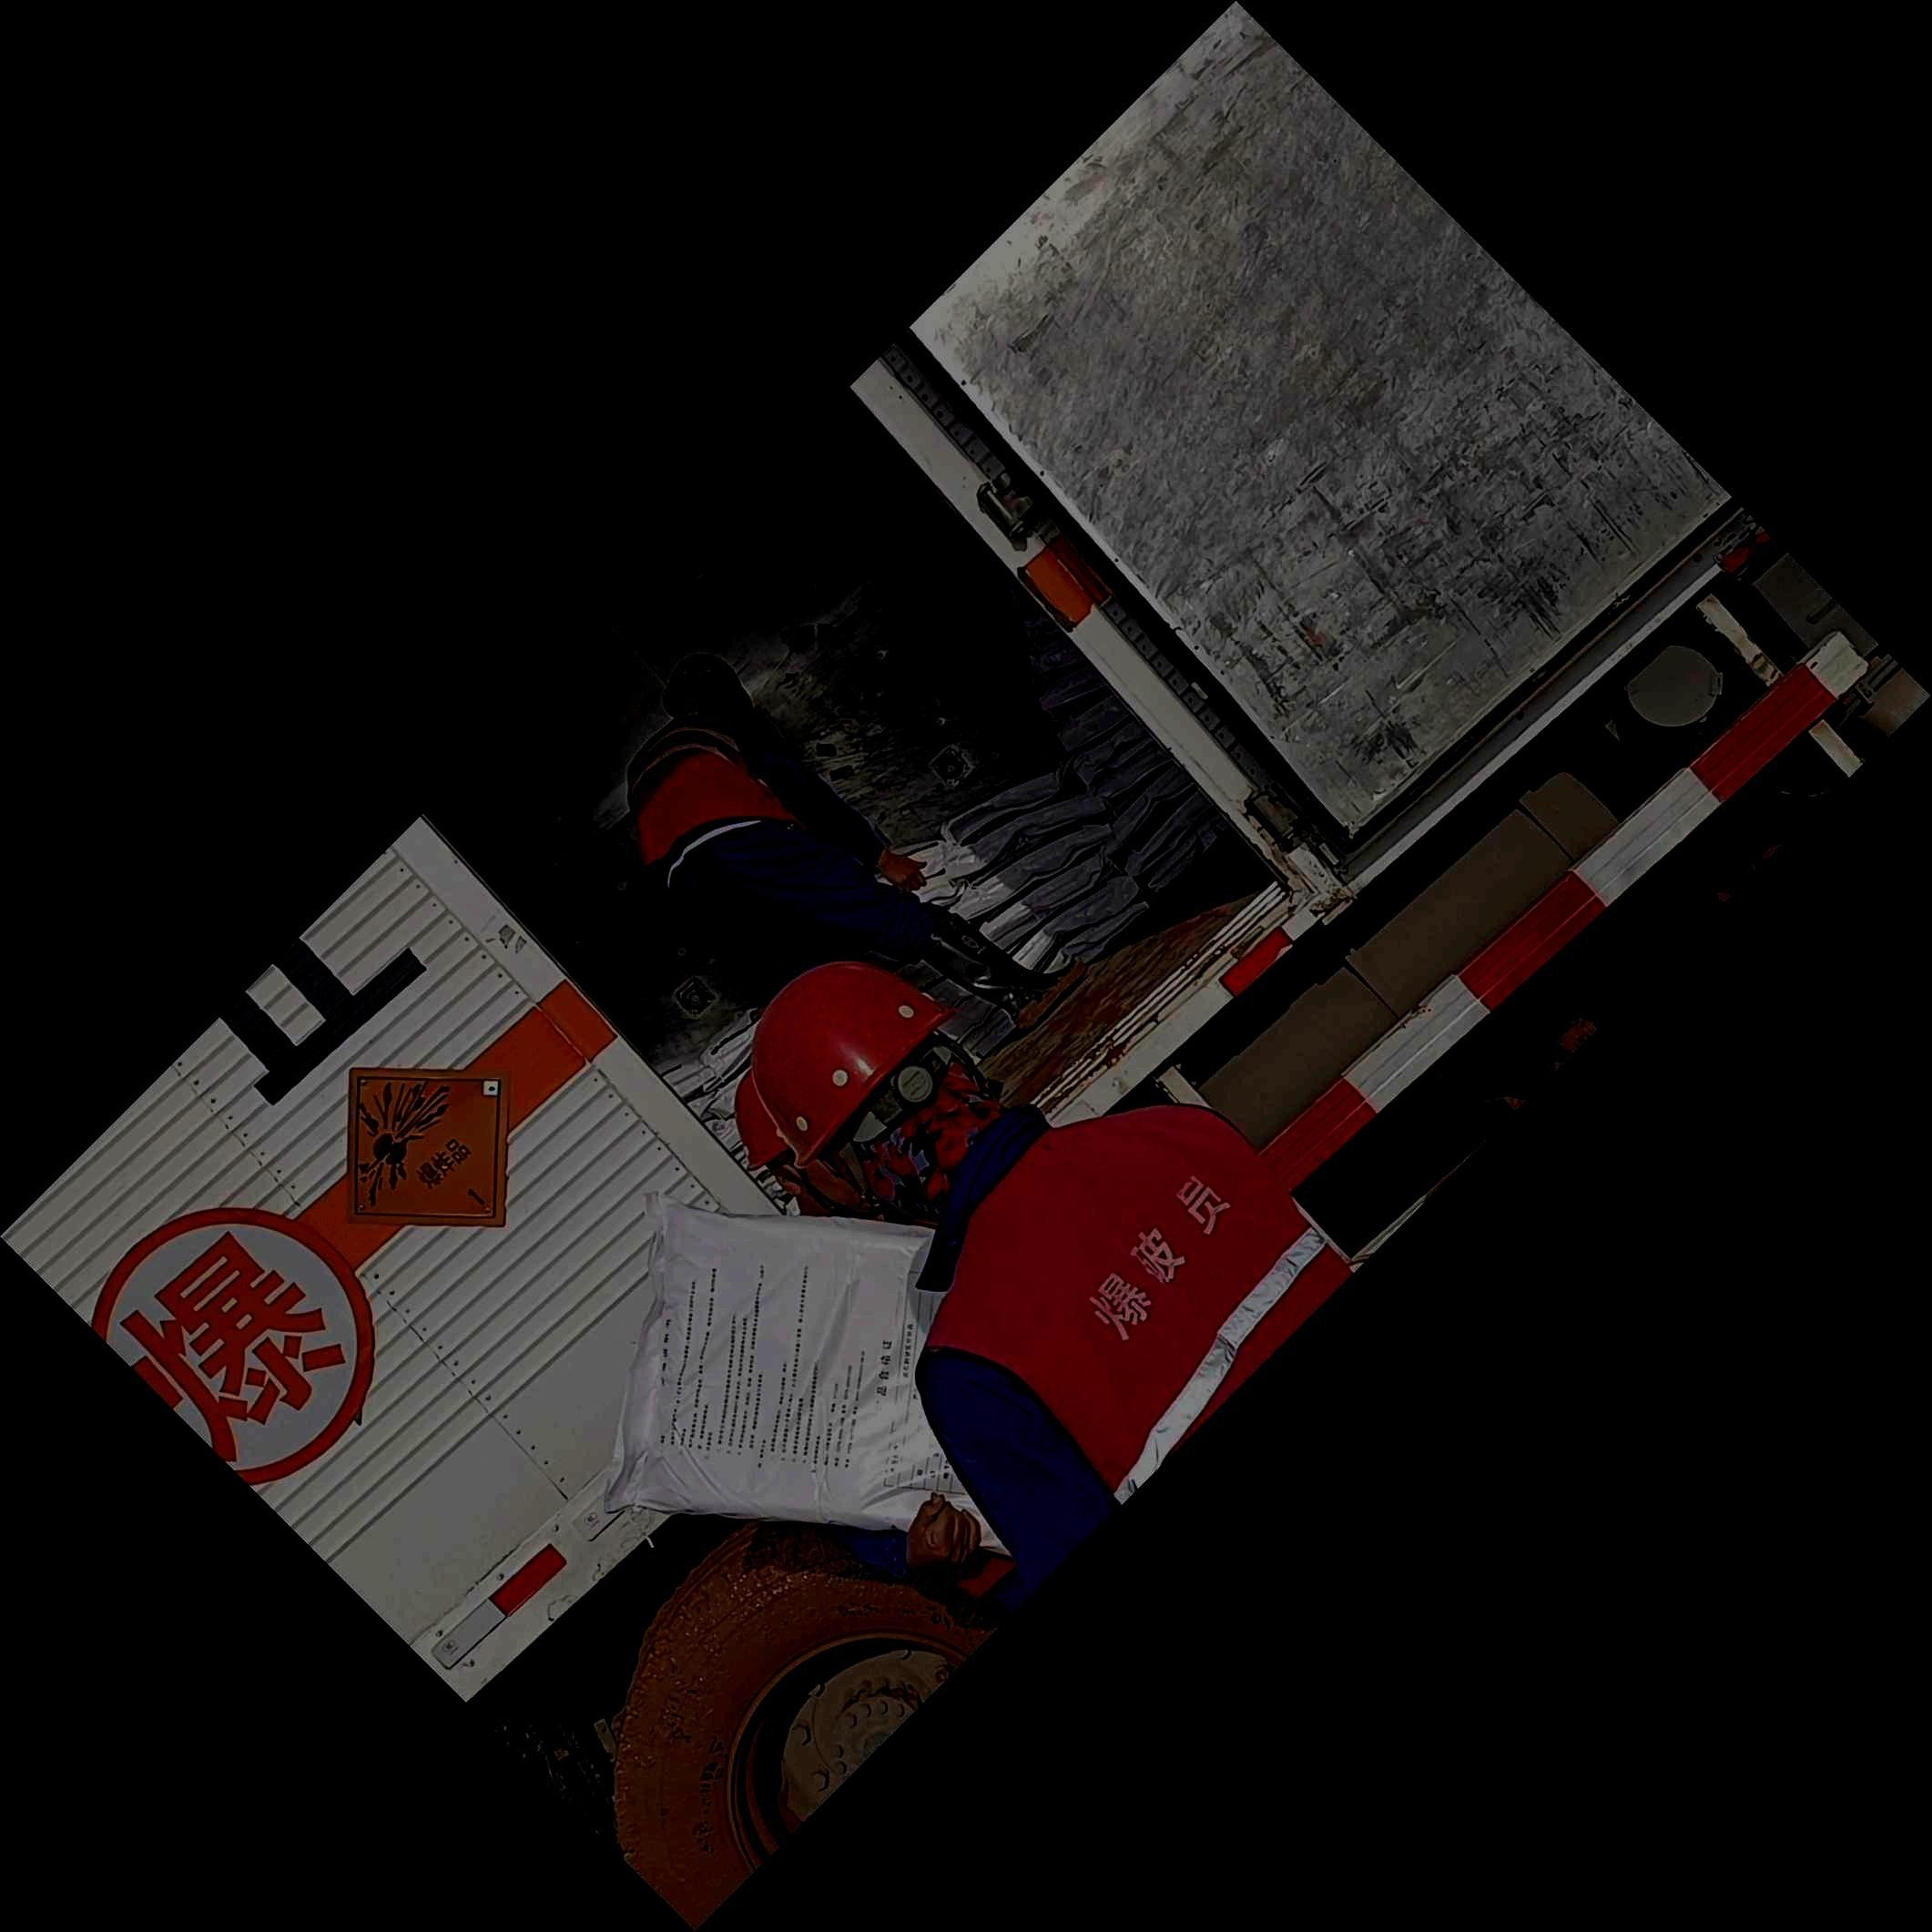helmet: (750, 959, 1001, 1221), (734, 1067, 860, 1210), (663, 651, 754, 718)
